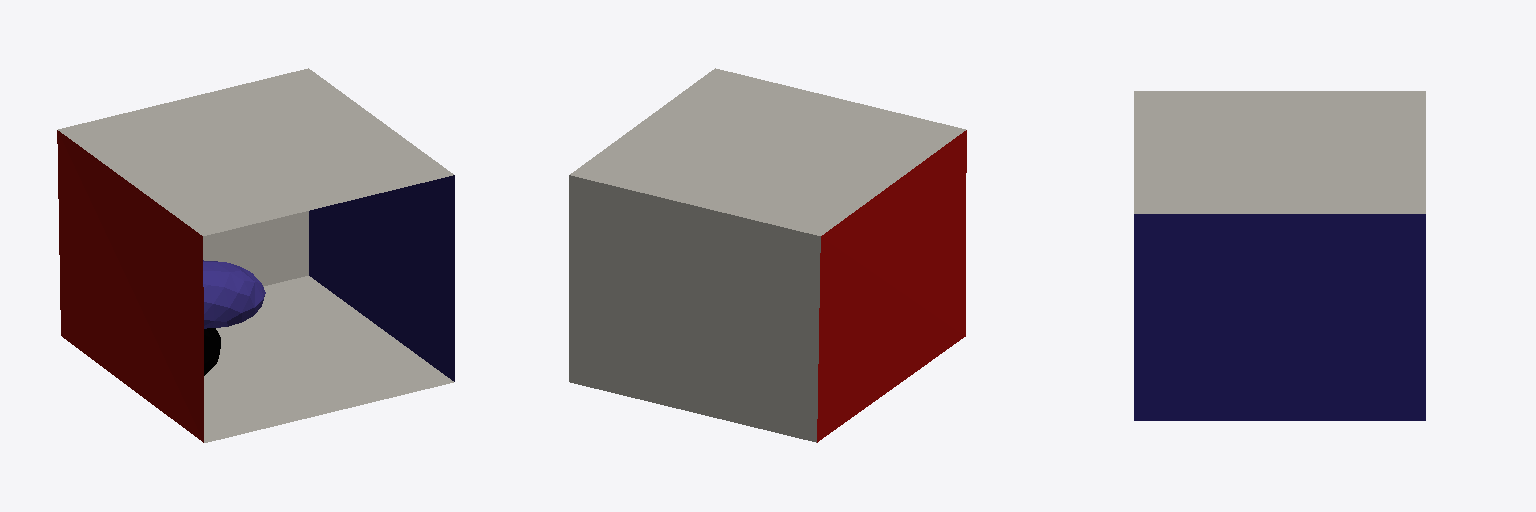
The model's file is CornellBox-Ellipsoid-153.obj.
The picture shows the model from 3 angles: view 1: azimuth 30°, elevation 25°; view 2: azimuth 150°, elevation 25°; view 3: azimuth 270°, elevation 25°; orthographic projection.
Visible parts, largest first — view 1: ceiling, leftWall, floor, rightWall, backWall, leftSphere, rightSphere; view 2: backWall, ceiling, leftWall; view 3: rightWall, ceiling.
Part boxes in pixels (x1,y1,x2,y2): ceiling: (58,68,453,235); leftWall: (57,130,203,442); floor: (204,276,453,442); rightWall: (309,175,454,381); backWall: (203,211,308,286); leftSphere: (203,260,265,328); rightSphere: (204,328,220,375); backWall: (569,175,820,442); ceiling: (570,68,965,235); leftWall: (817,130,966,442); rightWall: (1134,214,1425,420); ceiling: (1134,91,1425,213).
Size of the model in its own units: 2.02 by 1.59 by 2.03.